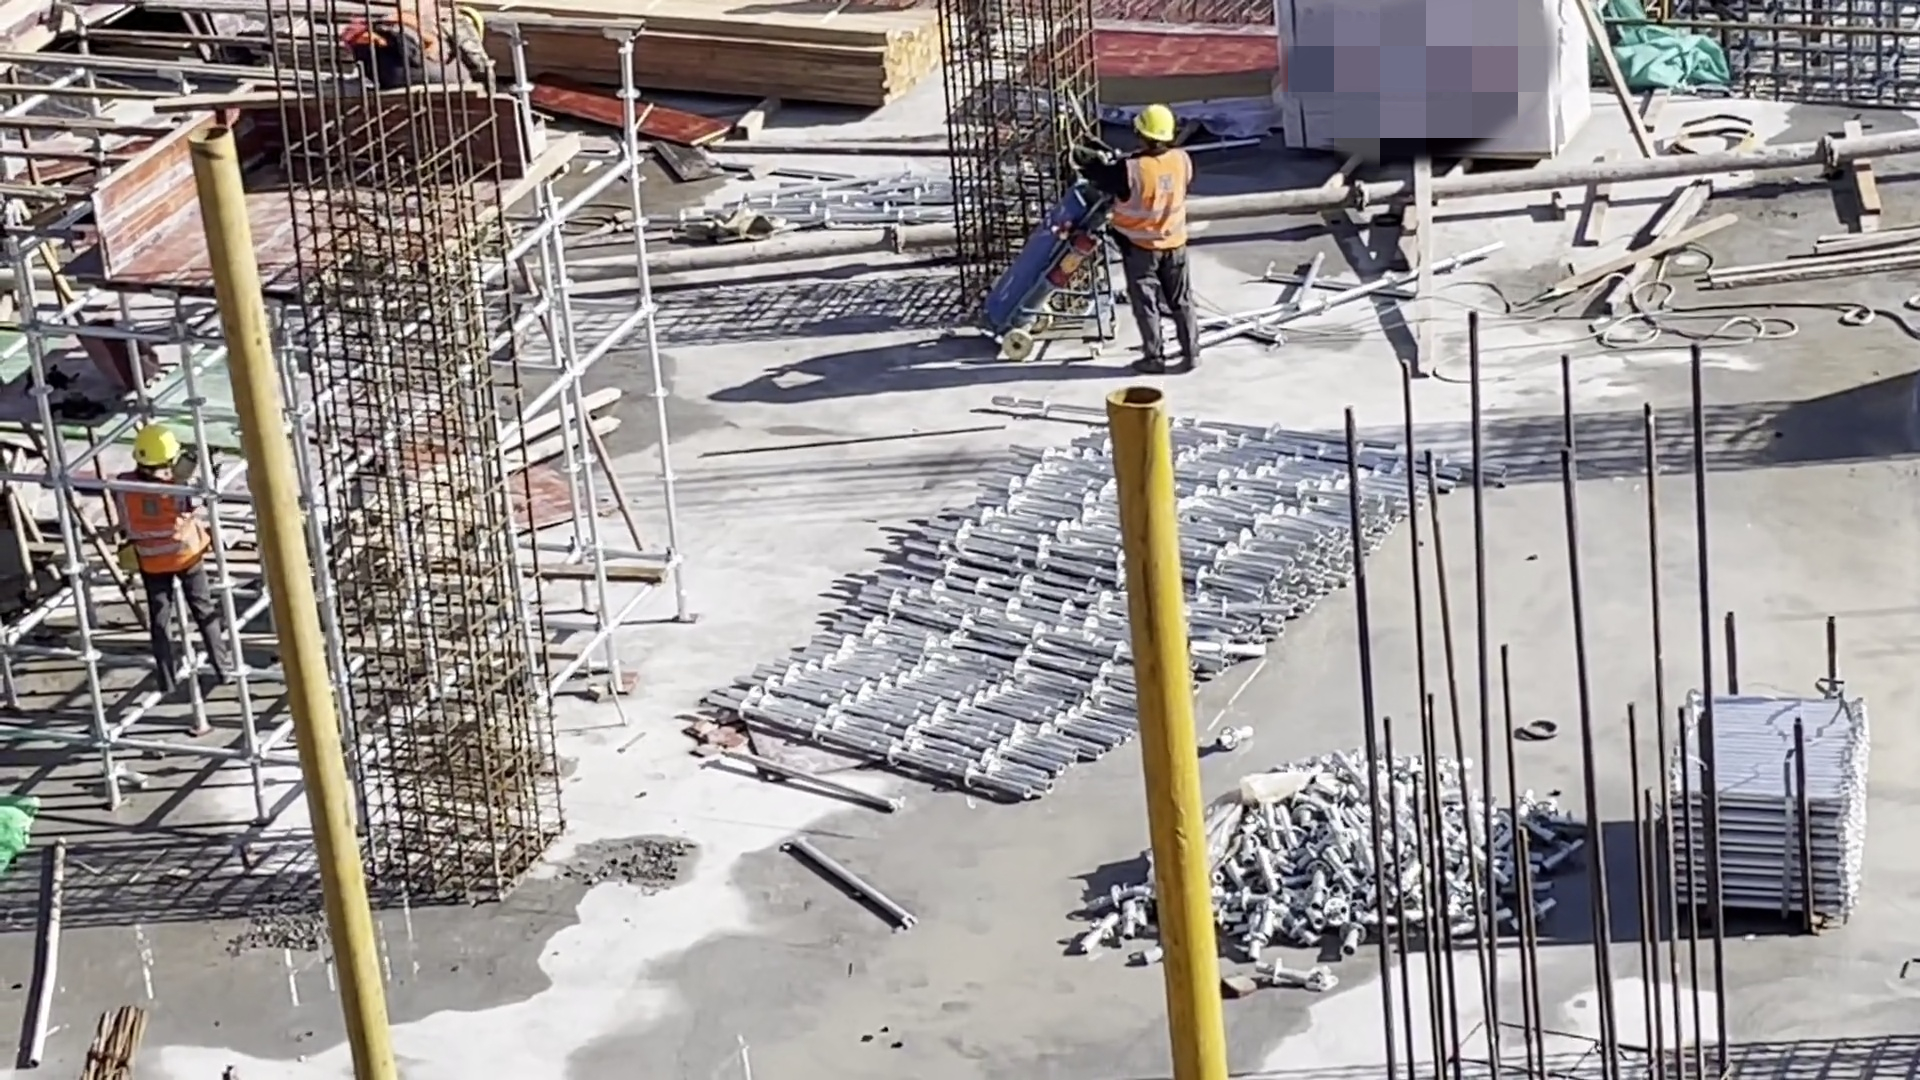helmet: (135, 431, 183, 469), (1133, 105, 1181, 142), (458, 8, 491, 39)
person: (1092, 112, 1219, 375), (111, 427, 233, 691), (352, 4, 511, 85)
scaffold: (706, 393, 1504, 815), (1665, 683, 1870, 922)
vest: (117, 477, 209, 576), (1114, 151, 1195, 253), (359, 10, 454, 57)
